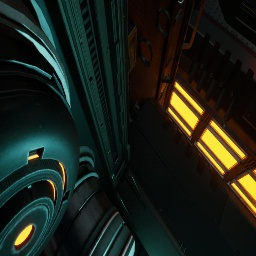EmergencyPhone ,: (128, 19, 137, 79)
